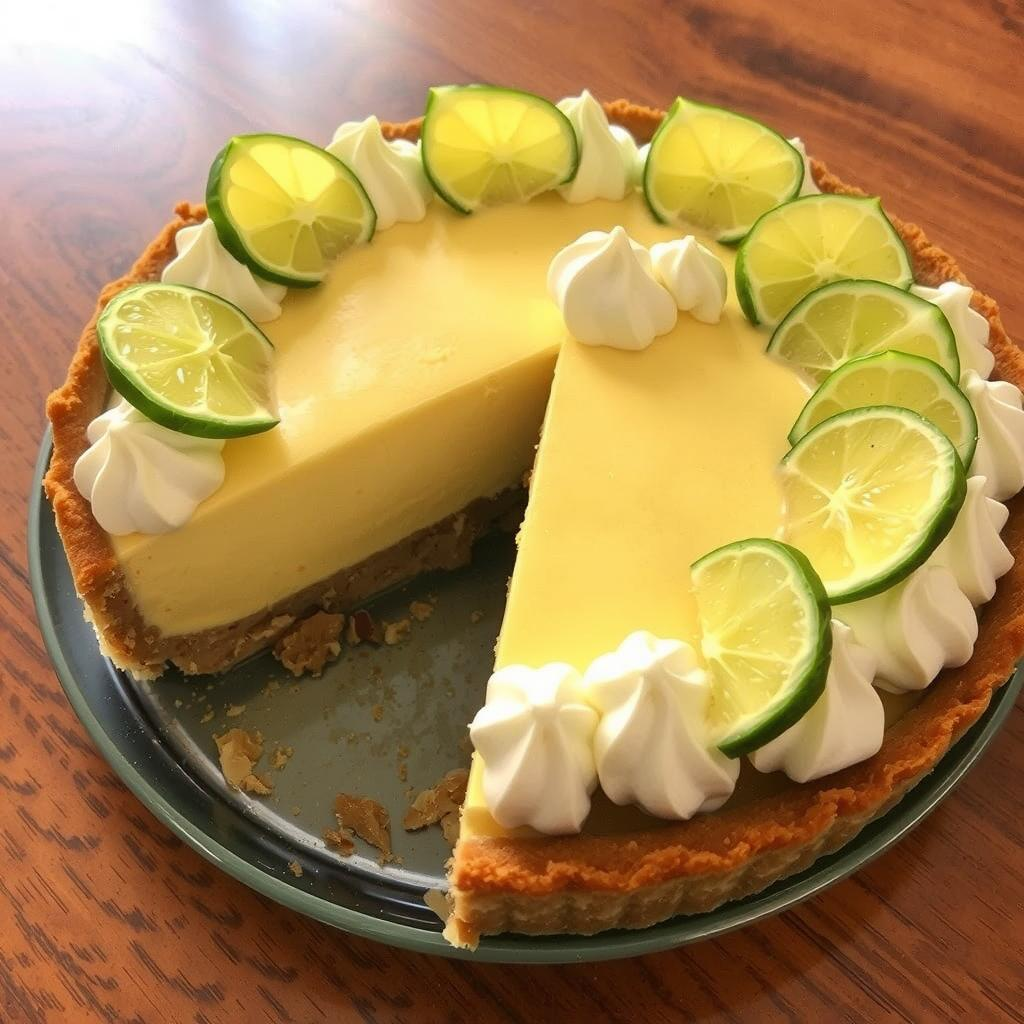pie: (40, 80, 1024, 956)
